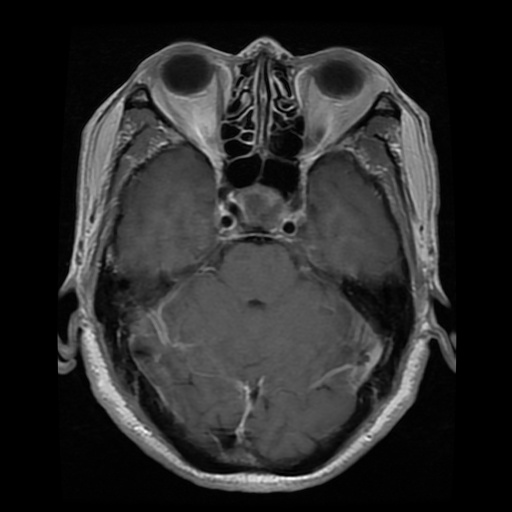pituitary: (234, 186, 288, 228)
